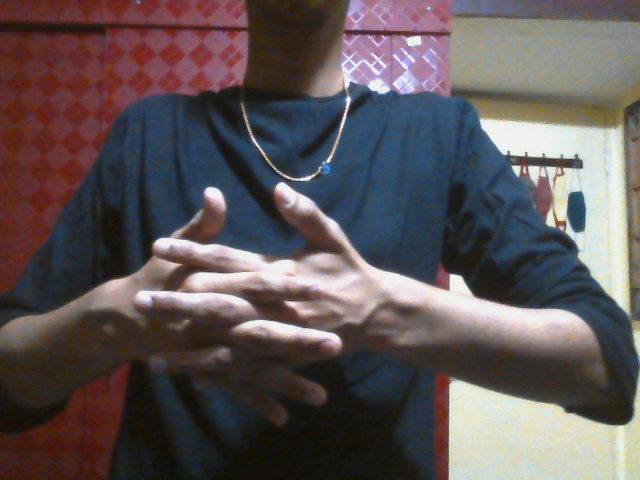W: (116, 182, 391, 429)
